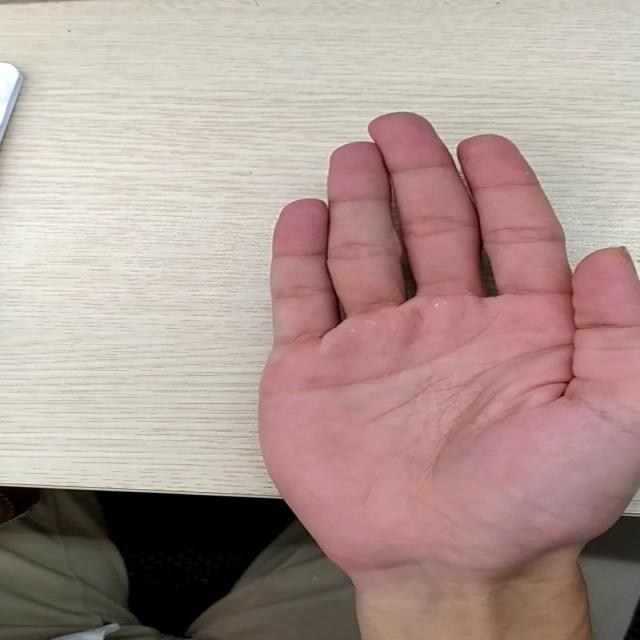hand: (269, 113, 640, 544)
